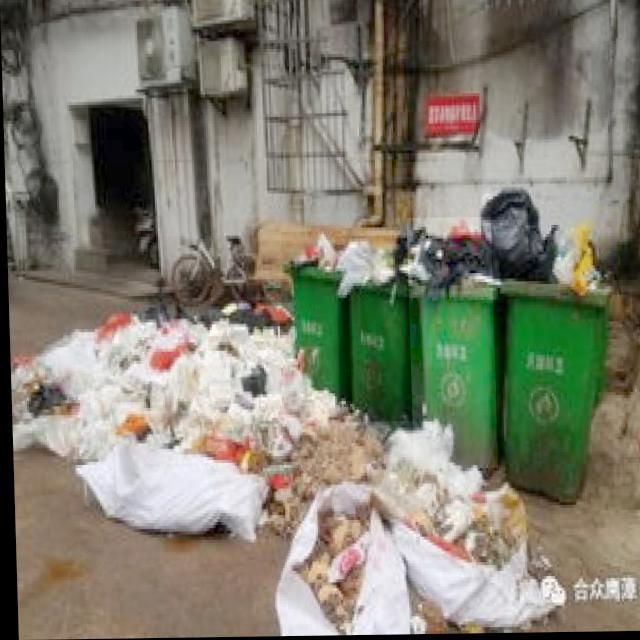garbage: (7, 295, 553, 637)
overflow: (489, 185, 612, 510), (405, 218, 500, 470), (333, 237, 418, 424), (280, 232, 345, 398)
